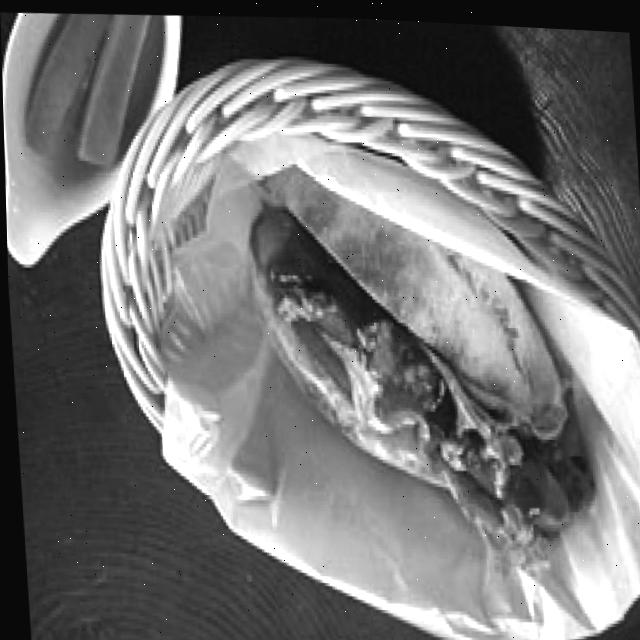汉堡快餐: (222, 158, 577, 604)
